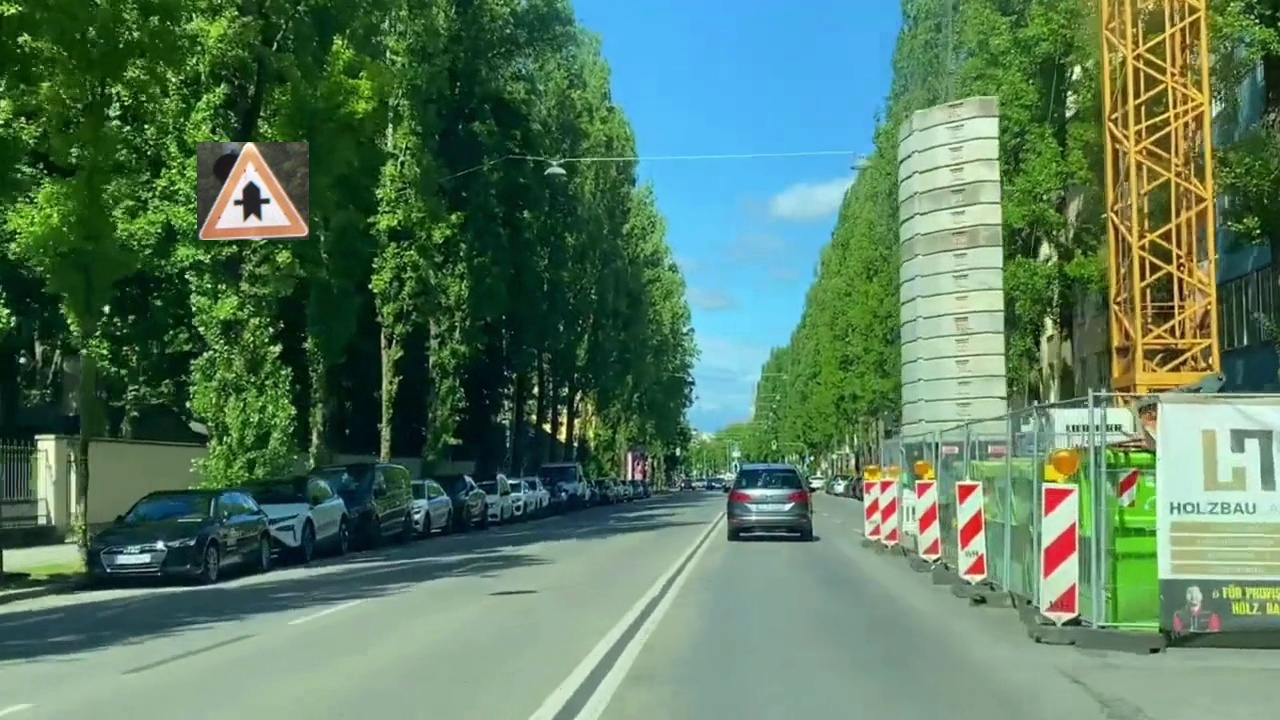Right-of-way: (197, 142, 309, 240)
